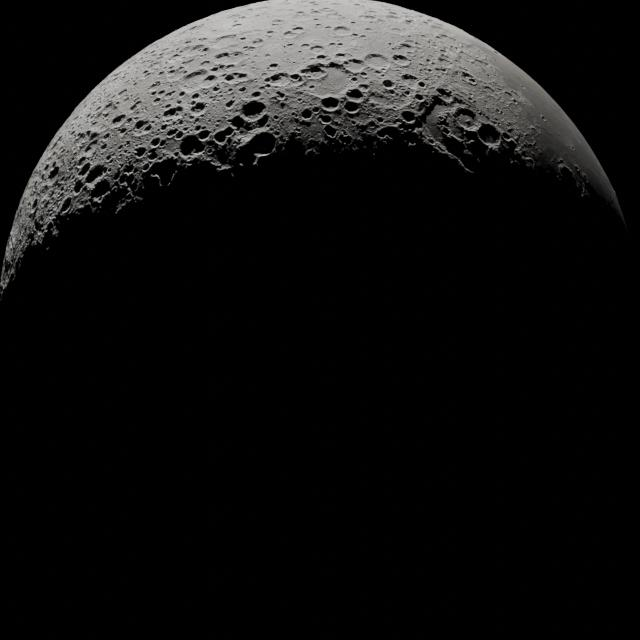crater: (246, 130, 276, 161), (359, 50, 391, 76), (450, 106, 478, 135), (473, 122, 502, 148), (84, 162, 110, 188), (238, 99, 268, 121), (302, 62, 328, 85), (178, 136, 200, 158), (90, 179, 110, 203), (164, 103, 186, 123), (315, 94, 341, 109), (45, 164, 62, 184), (342, 58, 364, 73), (345, 86, 363, 101), (222, 72, 238, 88), (189, 103, 207, 116), (298, 105, 312, 121), (399, 113, 417, 123), (111, 115, 127, 125), (266, 60, 279, 71), (380, 80, 395, 89), (414, 93, 422, 104)
